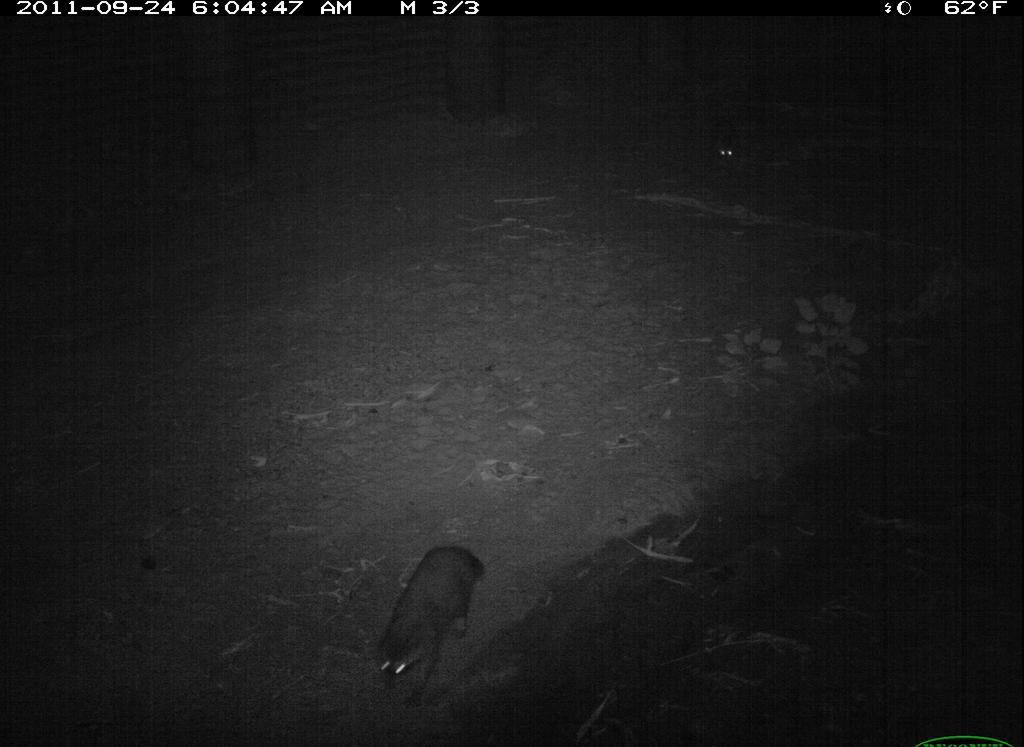raccoon: (361, 537, 495, 721)
